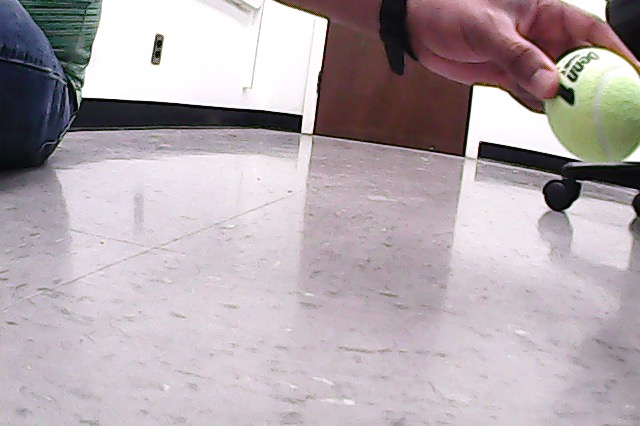ball: (545, 47, 640, 163)
